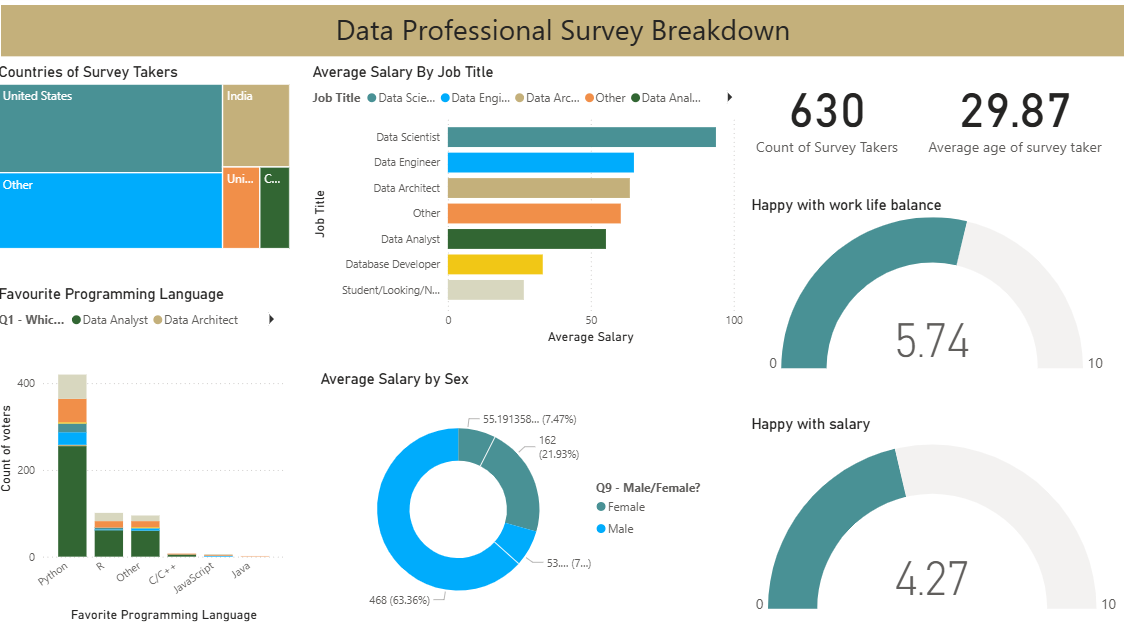

The page's visual inventory and layout, read from the dashboard file:
{"tool":"powerbi","page":{"name":"Page 1","canvas":[1280,720],"ordinal":0},"visuals":[{"type":"textbox","box":[10.2,11.3,1269.8,57.6],"z":0},{"type":"card","fields":{"Values":["Count(Data Professional Survey.Unique ID)"]},"box":[853,76.8,180.8,113],"z":1000},{"type":"card","fields":{"Values":["Avg(Data Professional Survey.Q10 - Current Age)"]},"box":[1036,76.8,239.5,113],"z":2000},{"type":"barChart","title":"Average Salary By Job Title","fields":{"Category":["Data Professional Survey.Q1 - Which Title Best Fits your Current Role?.1"],"Y":["Avg(Data Professional Survey.Average Salary)"],"Series":["Data Professional Survey.Q1 - Which Title Best Fits your Current Role?.1"]},"box":[357,76.8,496,322],"z":3000},{"type":"columnChart","title":"Favourite Programming Language","fields":{"Category":["Data Professional Survey.Q5 - Favorite Programming Language.1"],"Y":["CountNonNull(Data Professional Survey.Unique ID)"],"Series":["Data Professional Survey.Q1 - Which Title Best Fits your Current Role?.1"]},"box":[2.3,327.6,333.3,385.2],"z":4000},{"type":"treemap","title":"Countries of Survey Takers","fields":{"Group":["Data Professional Survey.Q11 - Which Country do you live in?.1"],"Values":["CountNonNull(Data Professional Survey.Q11 - Which Country do you live in?.1)"]},"box":[0,68.9,338.9,214.7],"z":5000},{"type":"gauge","title":"Happy with work life balance","fields":{"Y":["Avg(Data Professional Survey.Q6 - How Happy are you in your Current Position with the following? (Work/Life Balance))"],"MinValue":["Min(Data Professional Survey.Q6 - How Happy are you in your Current Position with the following? (Work/Life Balance))"],"MaxValue":["Max(Data Professional Survey.Q6 - How Happy are you in your Current Position with the following? (Work/Life Balance))1"]},"box":[853,227.1,427,204.5],"z":6000},{"type":"gauge","title":"Happy with salary","fields":{"Y":["Avg(Data Professional Survey.Q6 - How Happy are you in your Current Position with the following? (Salary))"],"MinValue":["Min(Data Professional Survey.Q6 - How Happy are you in your Current Position with the following? (Salary))"],"MaxValue":["Max(Data Professional Survey.Q6 - How Happy are you in your Current Position with the following? (Salary))"]},"box":[853,474.5,427,238.4],"z":7000},{"type":"donutChart","title":"Average Salary by Sex","fields":{"Category":["Data Professional Survey.Q9 - Male/Female?"],"Y":["Avg(Data Professional Survey.Average Salary)","CountNonNull(Data Professional Survey.Q7 - How difficult was it for you to break into Data?)"]},"box":[366,423.7,456.4,296],"z":8000}]}

Visuals, with their boxes in screenshot pixels (x1, y1, x2, y2), scaled from the page's 1280x720 canvas onto the 1124x632 screenshot:
textbox: <bbox>9, 10, 1123, 60</bbox>
card - Count(Data Professional Survey.Unique ID): <bbox>749, 67, 908, 167</bbox>
card - Avg(Data Professional Survey.Q10 - Current Age): <bbox>910, 67, 1120, 167</bbox>
"Average Salary By Job Title" barChart: <bbox>313, 67, 749, 350</bbox>
"Favourite Programming Language" columnChart: <bbox>2, 288, 295, 626</bbox>
"Countries of Survey Takers" treemap: <bbox>0, 60, 298, 249</bbox>
"Happy with work life balance" gauge: <bbox>749, 199, 1123, 379</bbox>
"Happy with salary" gauge: <bbox>749, 417, 1123, 626</bbox>
"Average Salary by Sex" donutChart: <bbox>321, 372, 722, 631</bbox>
